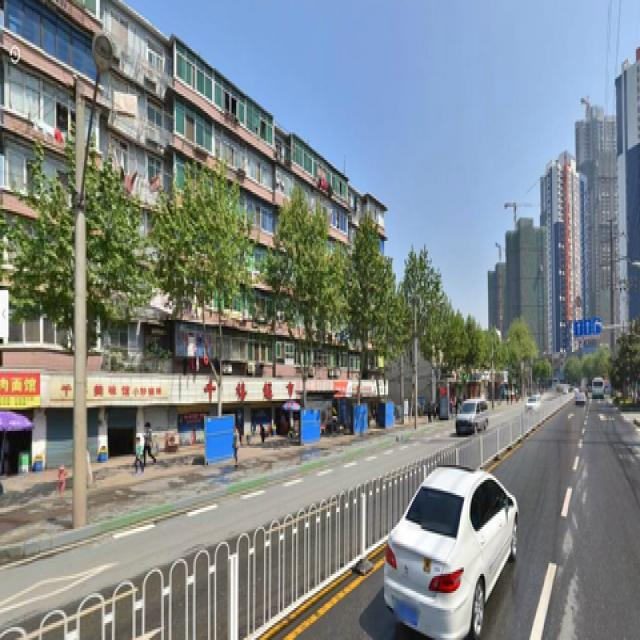meta: (181, 190, 243, 409), (276, 203, 336, 414), (345, 224, 392, 399)
